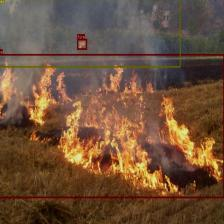fire: (0, 54, 224, 198), (77, 38, 87, 50)
smoke: (0, 0, 180, 67)
